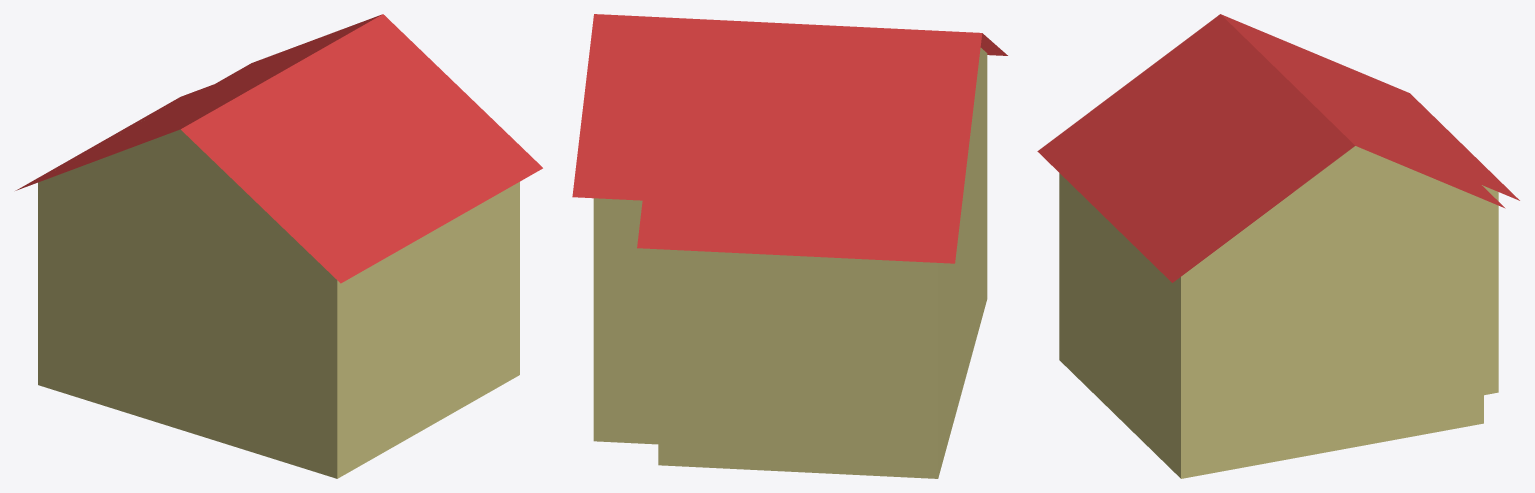
3 renders of one model, left to right at view 1: azimuth 30°, elevation 25°; view 2: azimuth 150°, elevation 25°; view 3: azimuth 270°, elevation 25°, orthographic. The views are drawn at different scales.
Size of the model in its own units: 14.16 by 14.46 by 10.2.
